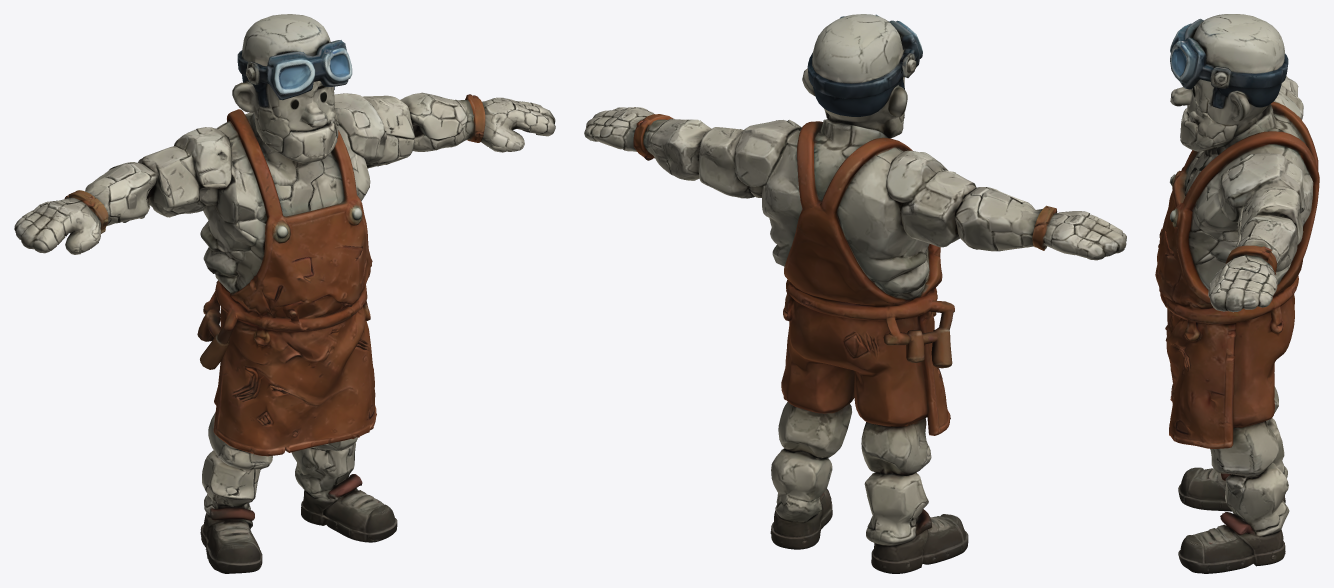
Rendered from bix.glb.
3 views of the same model, side by side, from view 1: azimuth 30°, elevation 25°; view 2: azimuth 150°, elevation 25°; view 3: azimuth 270°, elevation 25° (orthographic).
Visible parts, largest first — view 1: tripo_node_c180c41e-7186-490e-ac48-7e1af7ee0e3e; view 2: tripo_node_c180c41e-7186-490e-ac48-7e1af7ee0e3e; view 3: tripo_node_c180c41e-7186-490e-ac48-7e1af7ee0e3e.
Part boxes in pixels (left/top/right/bottom): tripo_node_c180c41e-7186-490e-ac48-7e1af7ee0e3e: left=14, top=14, right=555, bottom=573; tripo_node_c180c41e-7186-490e-ac48-7e1af7ee0e3e: left=584, top=14, right=1126, bottom=573; tripo_node_c180c41e-7186-490e-ac48-7e1af7ee0e3e: left=1155, top=14, right=1319, bottom=573.
Size of the model in its own units: 0.9792 by 0.9128 by 0.266.
Materials: 1 (1 with a texture image).
